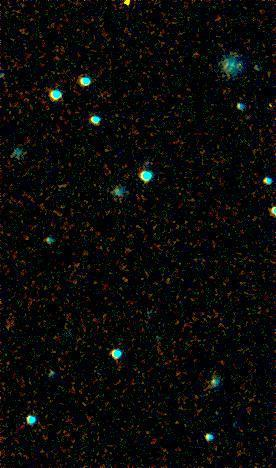star: (111, 0, 141, 21)
